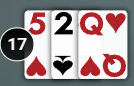2: (51, 10, 76, 37)
5: (25, 11, 50, 36)
q: (79, 10, 106, 38)
